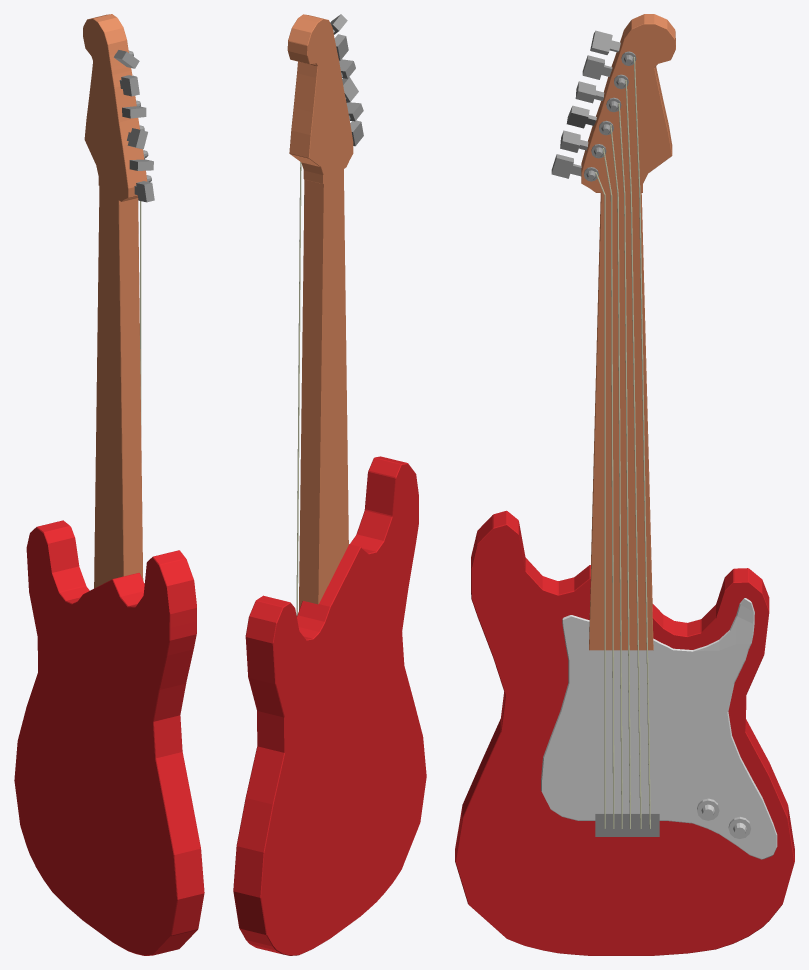
File: Guitar.fbx
3 renders of one model, left to right at view 1: azimuth 30°, elevation 25°; view 2: azimuth 150°, elevation 25°; view 3: azimuth 270°, elevation 25°, orthographic. The views are drawn at different scales.
Parts seen in each view (by area): view 1: Plane, Plane.001, Cube.032; view 2: Plane, Plane.001, Cube.032, Cylinder.017; view 3: Plane, Plane.002, Plane.001, Cylinder.017, Cube.032, Cube.027, Cylinder.014.
Boxes of the visible parts, <box> form: Plane: <box>14,520,204,955</box>; Plane.001: <box>83,14,147,588</box>; Cube.032: <box>114,50,154,202</box>; Plane: <box>233,456,426,955</box>; Plane.001: <box>287,14,353,610</box>; Cube.032: <box>330,14,363,146</box>; Cylinder.017: <box>296,162,304,616</box>; Plane: <box>455,510,794,955</box>; Plane.002: <box>541,598,777,859</box>; Plane.001: <box>581,14,675,650</box>; Cylinder.017: <box>595,57,650,828</box>; Cube.032: <box>551,30,620,178</box>; Cube.027: <box>595,813,659,836</box>; Cylinder.014: <box>584,51,636,181</box>.
Size of the model in its own units: 74.31 by 1574 by 519.
